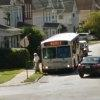Bus: (37, 29, 77, 71)
